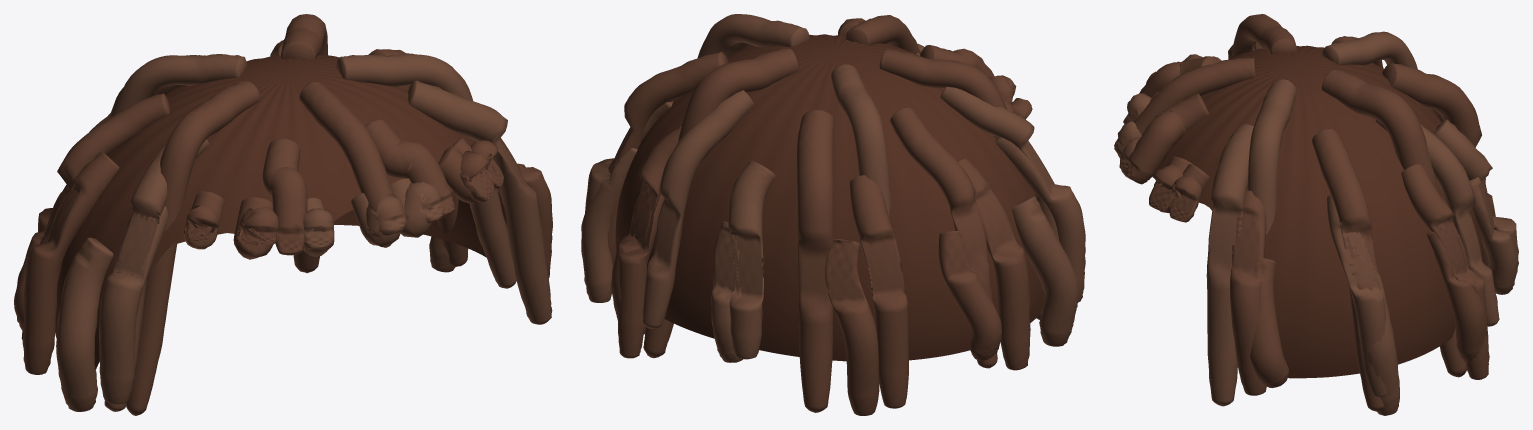
Rendered from Masculine-locs-headband251-hair.glb.
The picture shows the model from 3 angles, left to right: view 1: azimuth 30°, elevation 25°; view 2: azimuth 150°, elevation 25°; view 3: azimuth 270°, elevation 25°; orthographic projection. The views are drawn at different scales.
Visible parts, largest first — view 1: 226 hair / Hair / loc main251.001, 226 hair / Hair / loc accent251.001, 226 hair / Hair / recessed roots251.001; view 2: 226 hair / Hair / loc main251.001, 226 hair / Hair / recessed roots251.001, 226 hair / Hair / loc accent251.001; view 3: 226 hair / Hair / loc main251.001, 226 hair / Hair / recessed roots251.001, 226 hair / Hair / loc accent251.001.
Boxes of the visible parts, bbox=[...] form: 226 hair / Hair / loc main251.001: bbox=[14, 14, 552, 415]; 226 hair / Hair / loc accent251.001: bbox=[56, 40, 552, 411]; 226 hair / Hair / recessed roots251.001: bbox=[55, 55, 507, 369]; 226 hair / Hair / loc main251.001: bbox=[607, 15, 1042, 415]; 226 hair / Hair / recessed roots251.001: bbox=[615, 34, 1044, 361]; 226 hair / Hair / loc accent251.001: bbox=[581, 14, 1085, 362]; 226 hair / Hair / loc main251.001: bbox=[1125, 14, 1495, 411]; 226 hair / Hair / recessed roots251.001: bbox=[1157, 45, 1483, 378]; 226 hair / Hair / loc accent251.001: bbox=[1114, 31, 1518, 415].
Bounding box in the file's own units: 1.13 × 0.666 × 0.8965.
